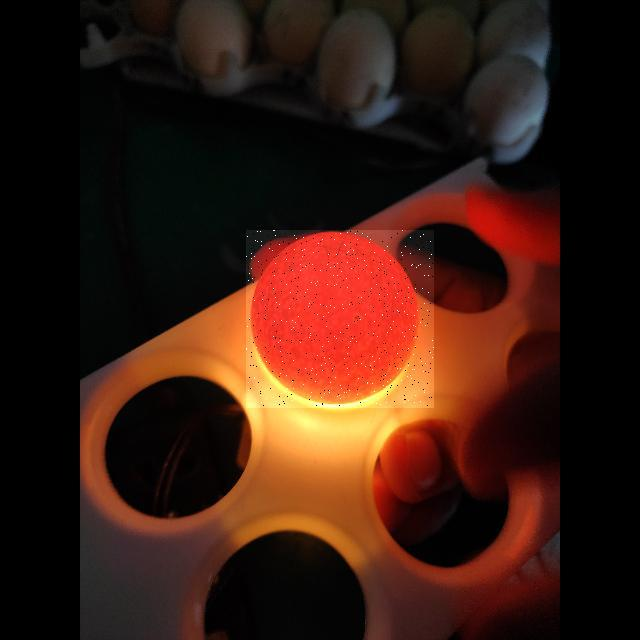Infertile: (246, 230, 434, 408)
